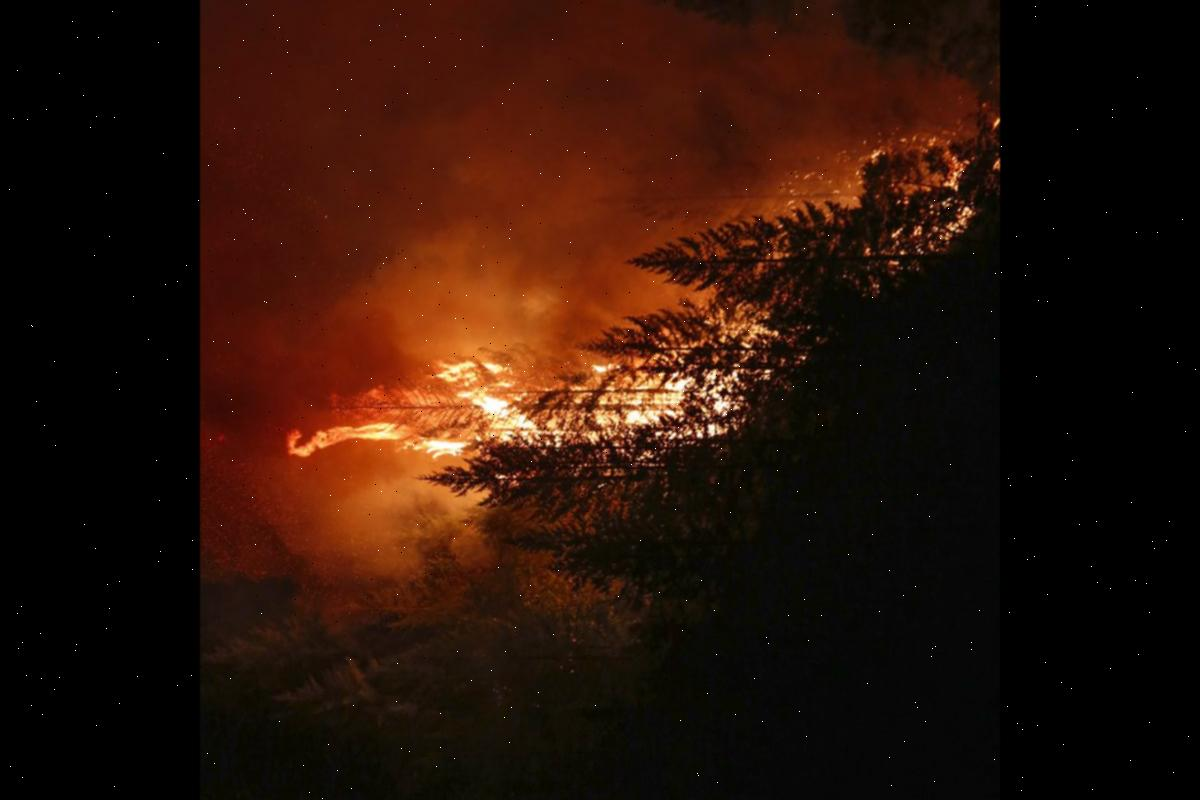fire: (246, 322, 772, 515)
